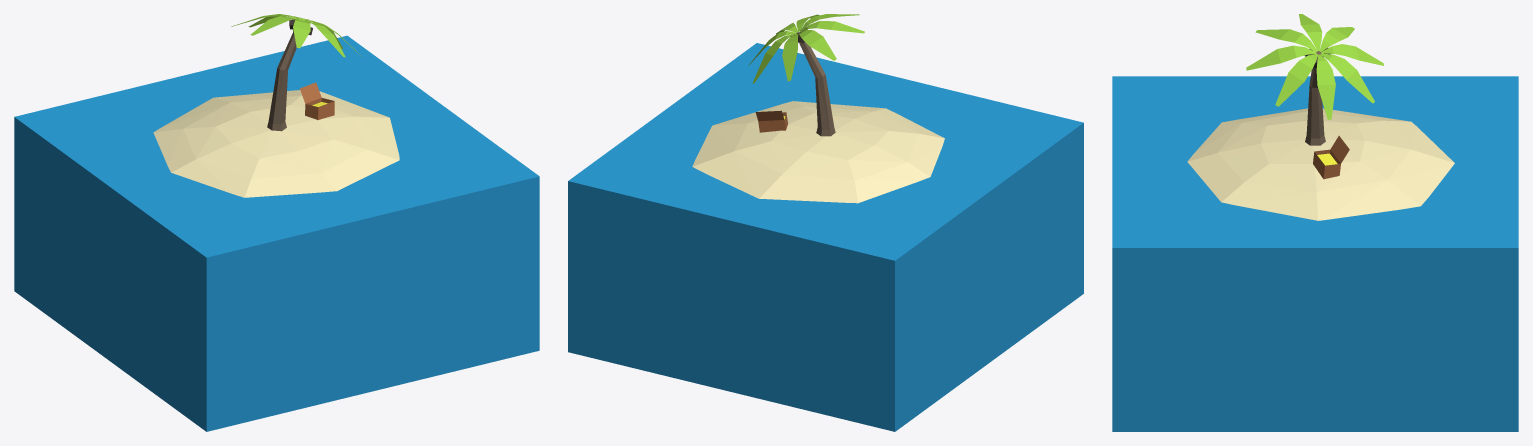
The model's file is EngineMascot.obj.
The picture shows the model from 3 angles, left to right: view 1: azimuth 30°, elevation 25°; view 2: azimuth 150°, elevation 25°; view 3: azimuth 270°, elevation 25°; orthographic projection. The views are drawn at different scales.
Visible parts, largest first — view 1: Icosphere, Icosphere.001, Circle, Cylinder, Cube.001_Cube.002; view 2: Icosphere, Icosphere.001, Circle, Cylinder, Cube.001_Cube.002; view 3: Icosphere, Icosphere.001, Circle, Cylinder, Cube.001_Cube.002.
Part boxes in pixels (bbox=[...]): Icosphere: bbox=[14, 35, 539, 431]; Icosphere.001: bbox=[153, 90, 399, 197]; Circle: bbox=[231, 14, 361, 57]; Cylinder: bbox=[267, 31, 296, 131]; Cube.001_Cube.002: bbox=[300, 82, 334, 119]; Icosphere: bbox=[568, 43, 1083, 431]; Icosphere.001: bbox=[692, 101, 944, 203]; Circle: bbox=[748, 14, 864, 83]; Cylinder: bbox=[797, 31, 835, 136]; Cube.001_Cube.002: bbox=[755, 110, 787, 132]; Icosphere: bbox=[1112, 76, 1518, 431]; Icosphere.001: bbox=[1187, 108, 1454, 220]; Circle: bbox=[1246, 14, 1383, 119]; Cylinder: bbox=[1305, 51, 1325, 145]; Cube.001_Cube.002: bbox=[1313, 136, 1349, 179].
Size of the model in its own units: 2 by 1.74 by 2.
